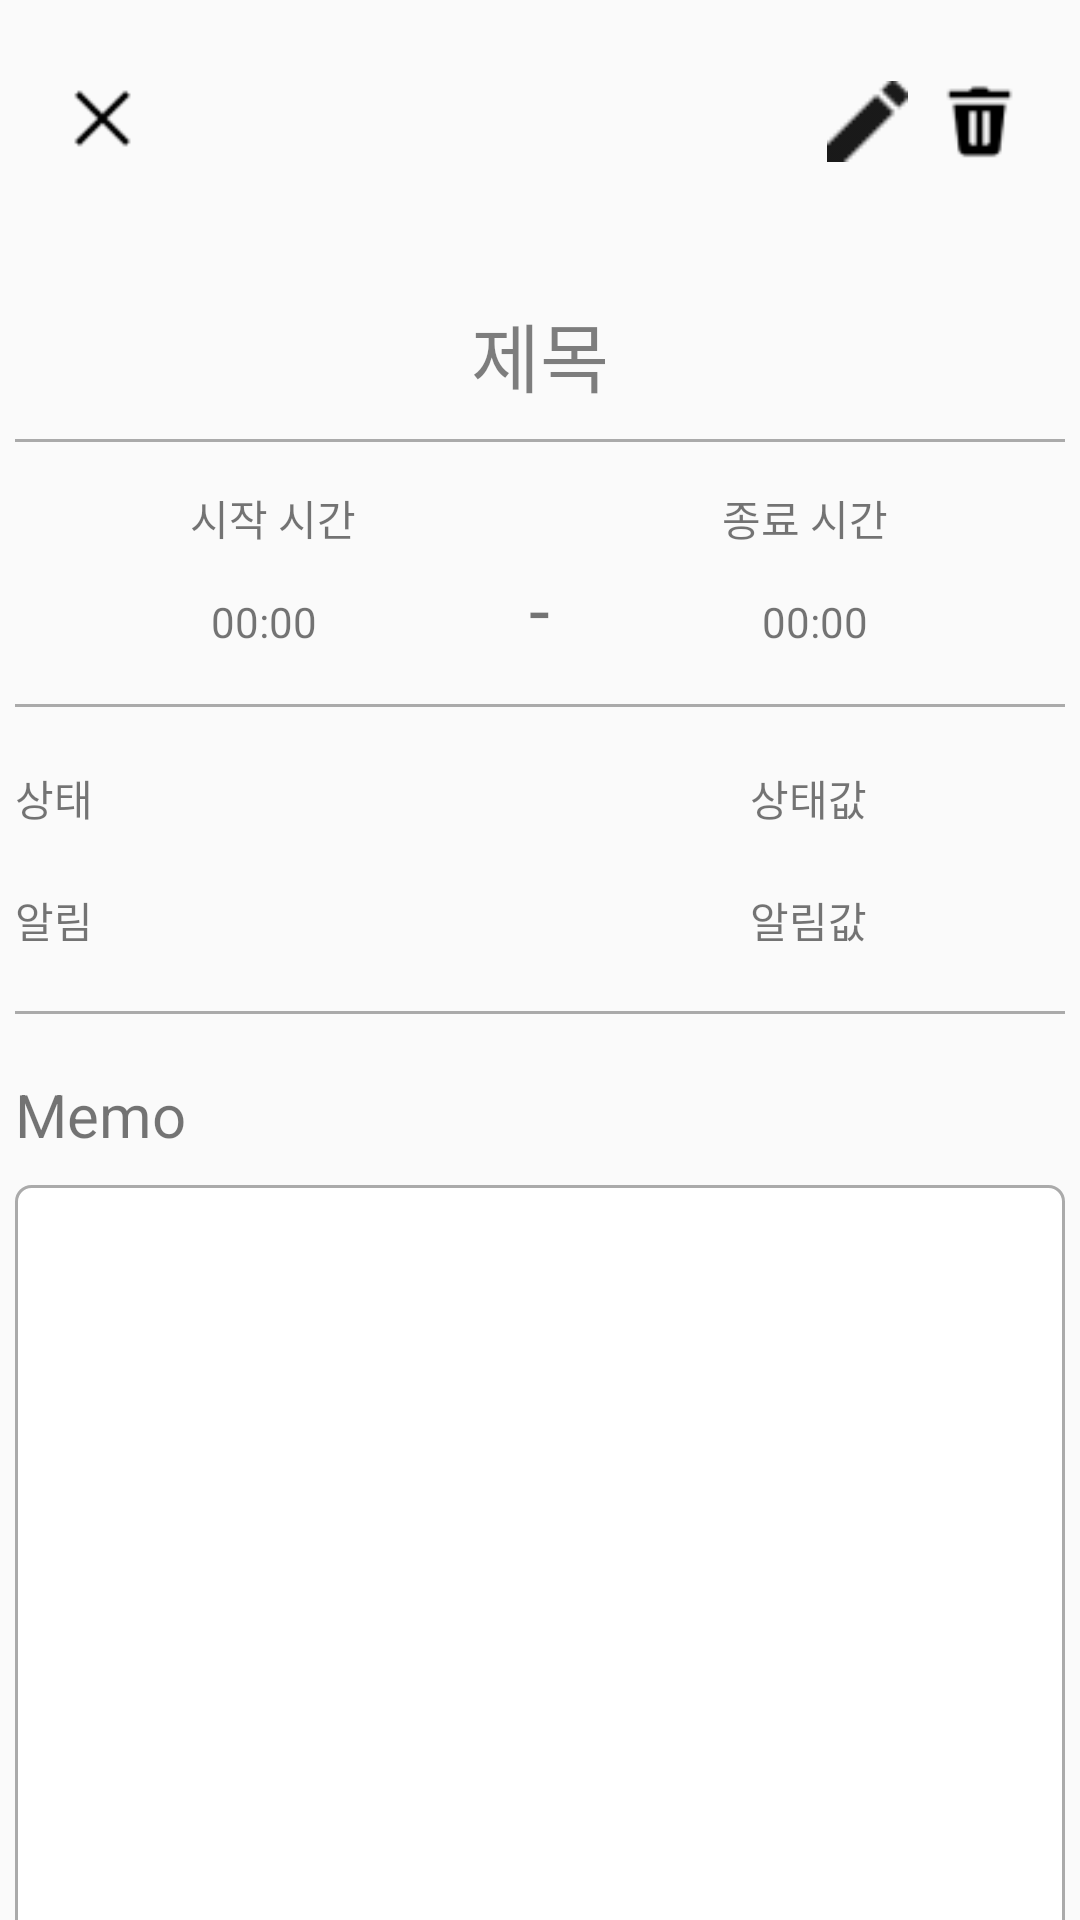

Where icons sit on this 1080px x 1920px app screen, as (x1, y1, x2, y2):
close: (74, 90, 131, 147)
delete: (947, 86, 1012, 157)
edit: (827, 81, 908, 162)
